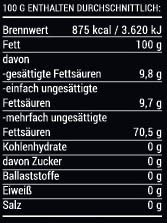100: (4, 0, 16, 21)
Brennwert: (3, 25, 48, 34)
DURCHSCHNITTLICH:: (77, 4, 158, 12)
ENTHALTEN: (28, 4, 74, 12)
Fettsiuren: (3, 128, 50, 136)
G: (21, 4, 25, 11)
Salz: (3, 200, 21, 209)
Zucker: (32, 157, 62, 165)
avon: (9, 159, 29, 165)
davon: (3, 54, 29, 63)
